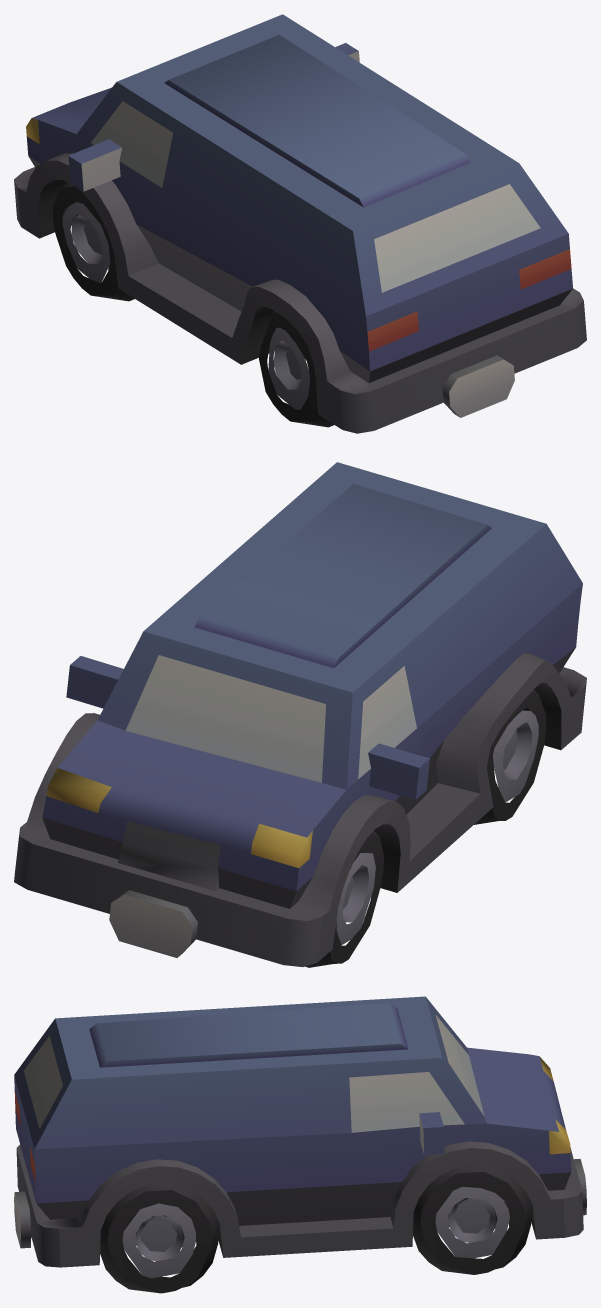
File: wreck_van.glb
The picture shows the model from 3 angles, top to bottom: view 1: azimuth 30°, elevation 25°; view 2: azimuth 150°, elevation 25°; view 3: azimuth 270°, elevation 25°; orthographic projection. The views are drawn at different scales.
Visible parts, largest first — view 1: body_mesh; view 2: body_mesh; view 3: body_mesh.
Boxes of the visible parts, bbox=[...] form: body_mesh: bbox=[14, 14, 586, 433]; body_mesh: bbox=[14, 462, 586, 967]; body_mesh: bbox=[14, 996, 586, 1293].
Size of the model in its own units: 2.48 by 1.86 by 4.23.
Materials: 1 (1 with a texture image).
